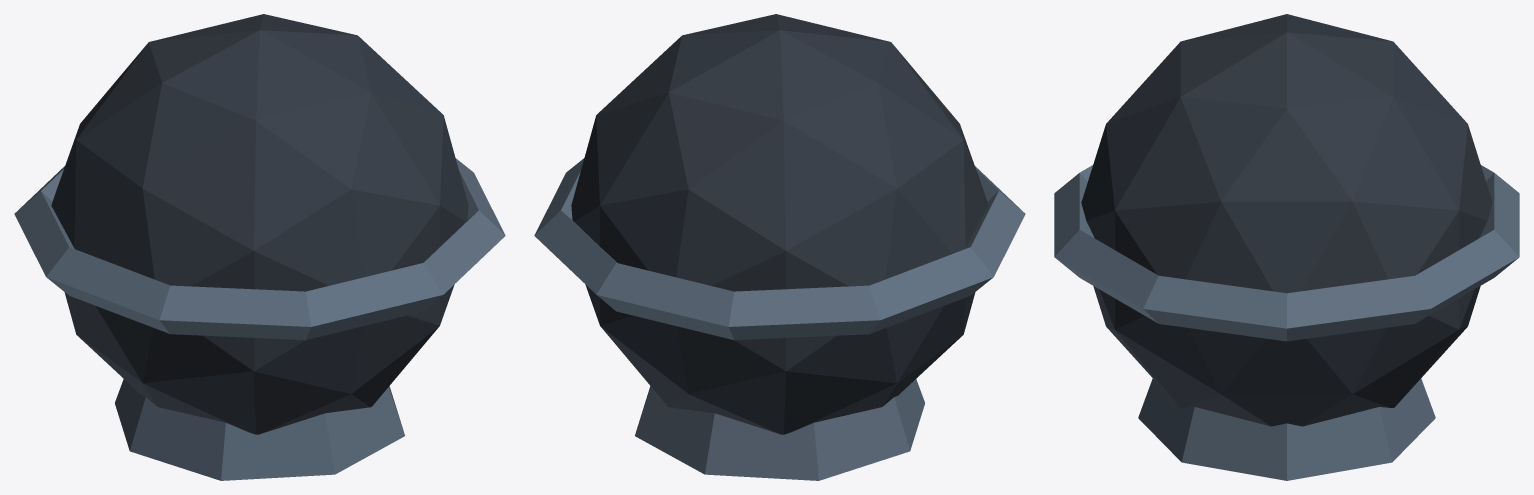
Rendered from robot_ball_joint.glb.
The picture shows the model from 3 angles, left to right: view 1: azimuth 30°, elevation 25°; view 2: azimuth 150°, elevation 25°; view 3: azimuth 270°, elevation 25°; orthographic projection.
Parts seen in each view (by area): view 1: robot_ball_joint_steelDark, robot_ball_joint_steel; view 2: robot_ball_joint_steelDark, robot_ball_joint_steel; view 3: robot_ball_joint_steelDark, robot_ball_joint_steel.
Boxes of the visible parts, bbox=[...] form: robot_ball_joint_steelDark: bbox=[51, 14, 468, 434]; robot_ball_joint_steel: bbox=[14, 158, 505, 480]; robot_ball_joint_steelDark: bbox=[571, 14, 988, 434]; robot_ball_joint_steel: bbox=[534, 158, 1025, 480]; robot_ball_joint_steelDark: bbox=[1081, 14, 1492, 426]; robot_ball_joint_steel: bbox=[1054, 165, 1519, 480].
Bounding box in the file's own units: 4.6 × 4 × 4.37.
